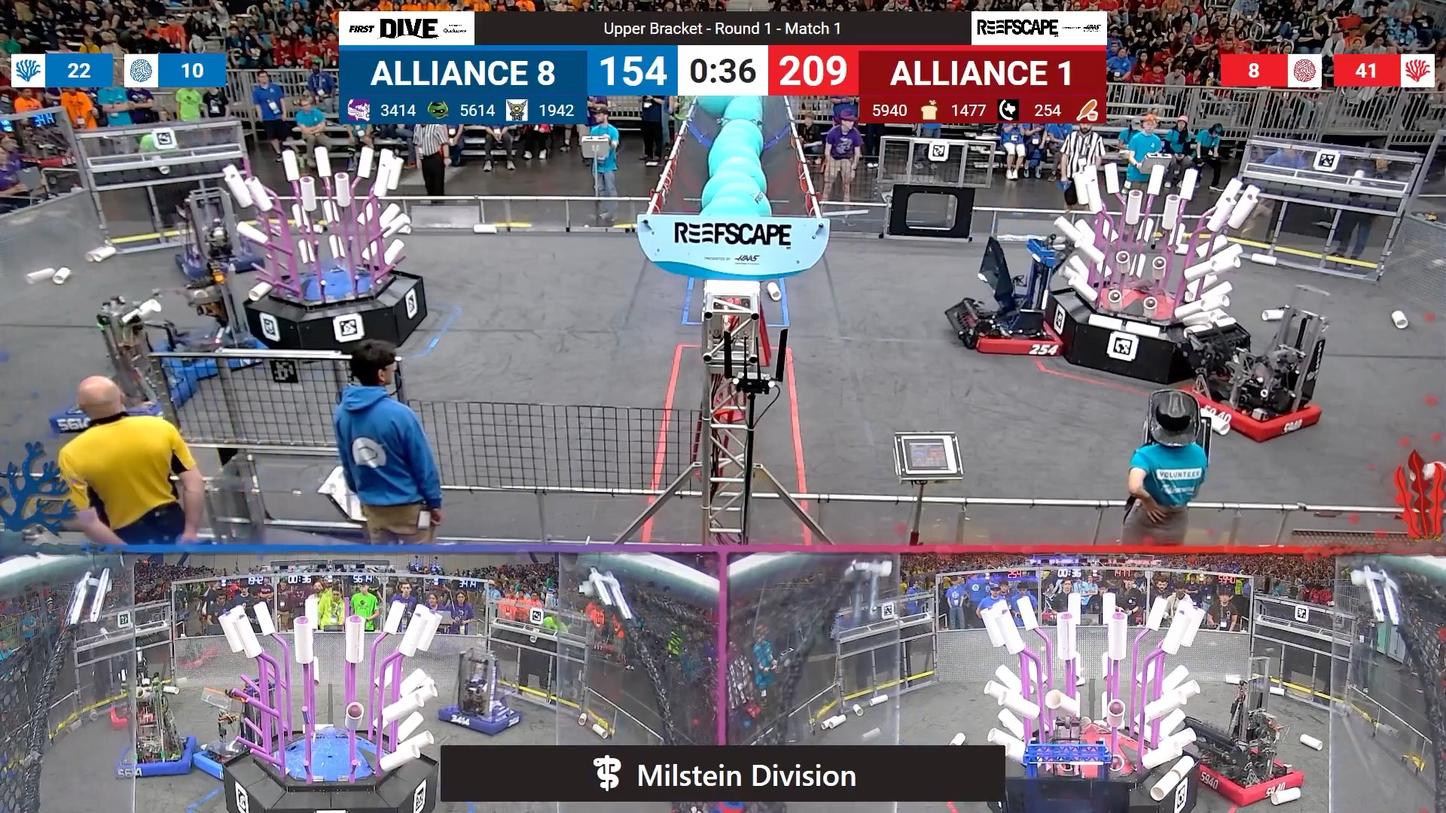bumpers: (1172, 374, 1332, 444), (50, 365, 199, 438), (1186, 747, 1319, 812), (954, 305, 1076, 362), (149, 333, 271, 383), (114, 731, 211, 785), (167, 245, 273, 285), (433, 698, 530, 740), (104, 697, 188, 730)
